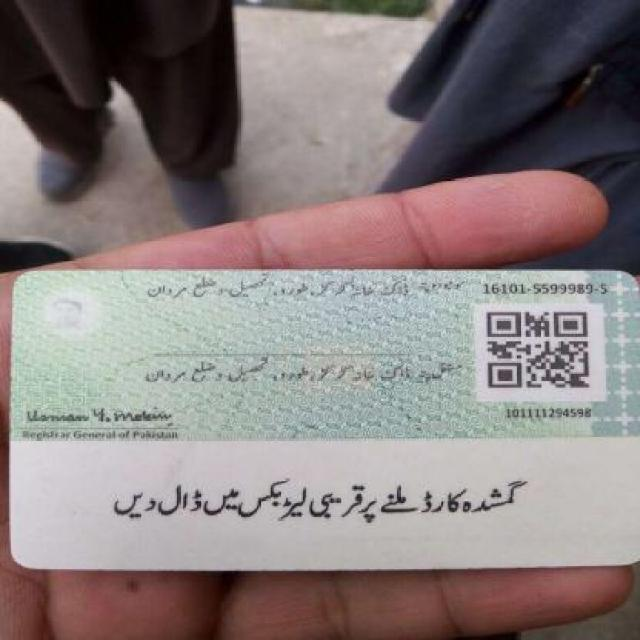Back: (12, 260, 636, 563)
